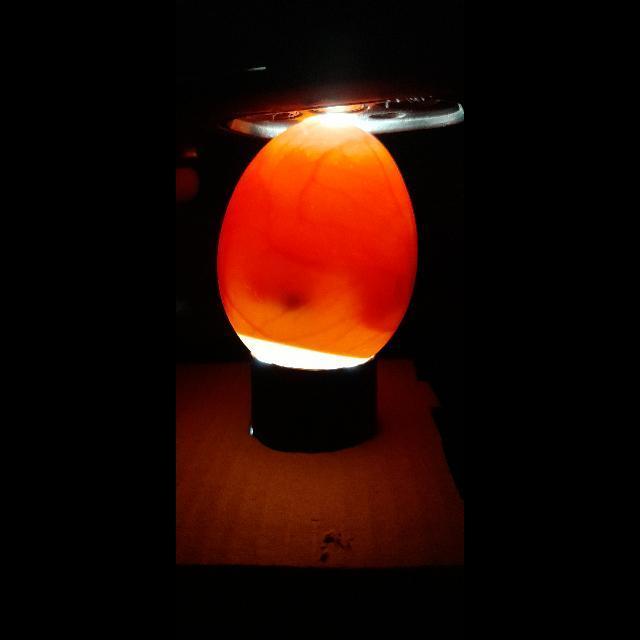Fertile: (214, 102, 422, 376)
